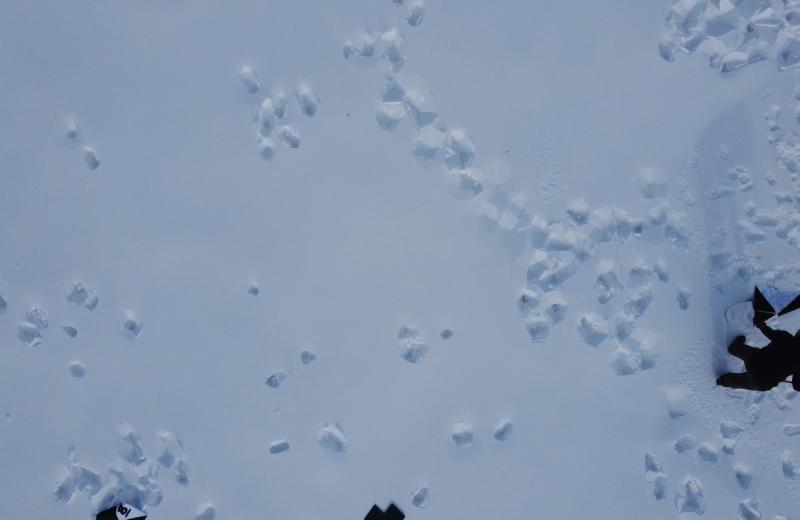Cross: (362, 500, 406, 520)
